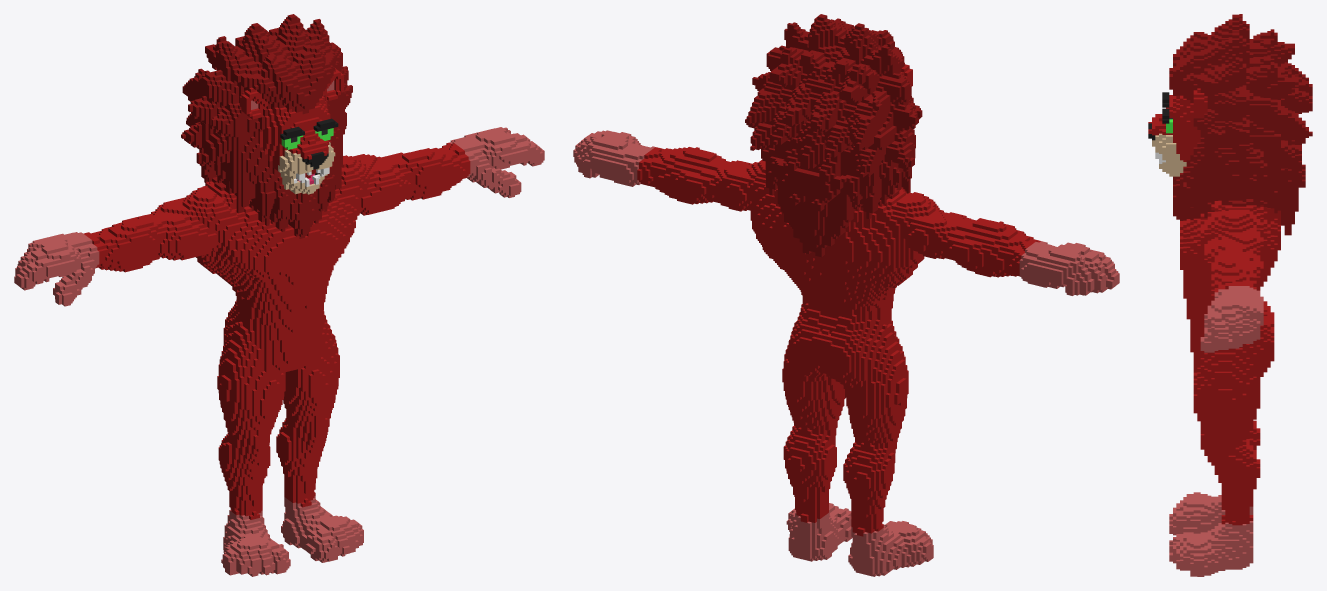
The model's file is 448-CDGPQBSj.fbx.
3 renders of one model, left to right at view 1: azimuth 30°, elevation 25°; view 2: azimuth 150°, elevation 25°; view 3: azimuth 270°, elevation 25°, orthographic. The views are drawn at different scales.
Visible parts, largest first — view 1: open; view 2: open; view 3: open.
Part boxes in pixels (<box>): open: <box>14,14,544,576</box>; open: <box>573,14,1119,576</box>; open: <box>1148,14,1312,576</box>.
Size of the model in its own units: 17.2 by 16.5 by 4.7.
Materials: 4 (4 with a texture image).
